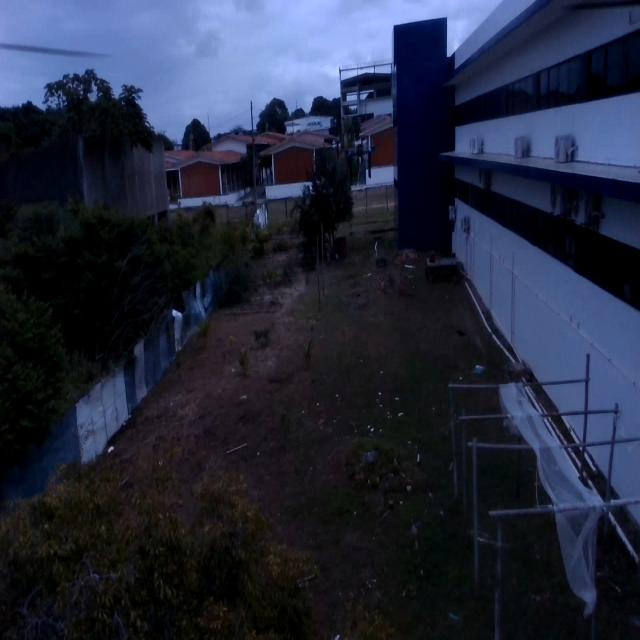-uav-: (344, 138, 375, 191)
